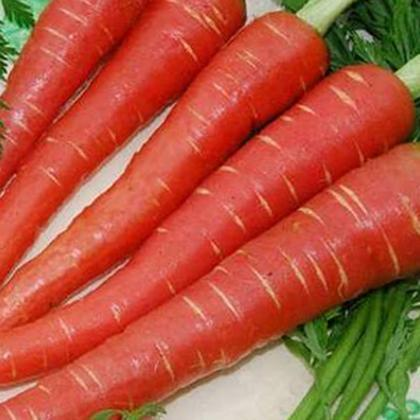carrot: (6, 3, 295, 351)
